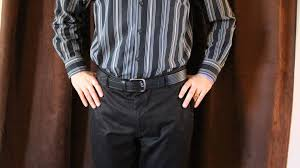F_belt: (92, 63, 197, 95)
F_dress pants: (89, 89, 197, 168)
